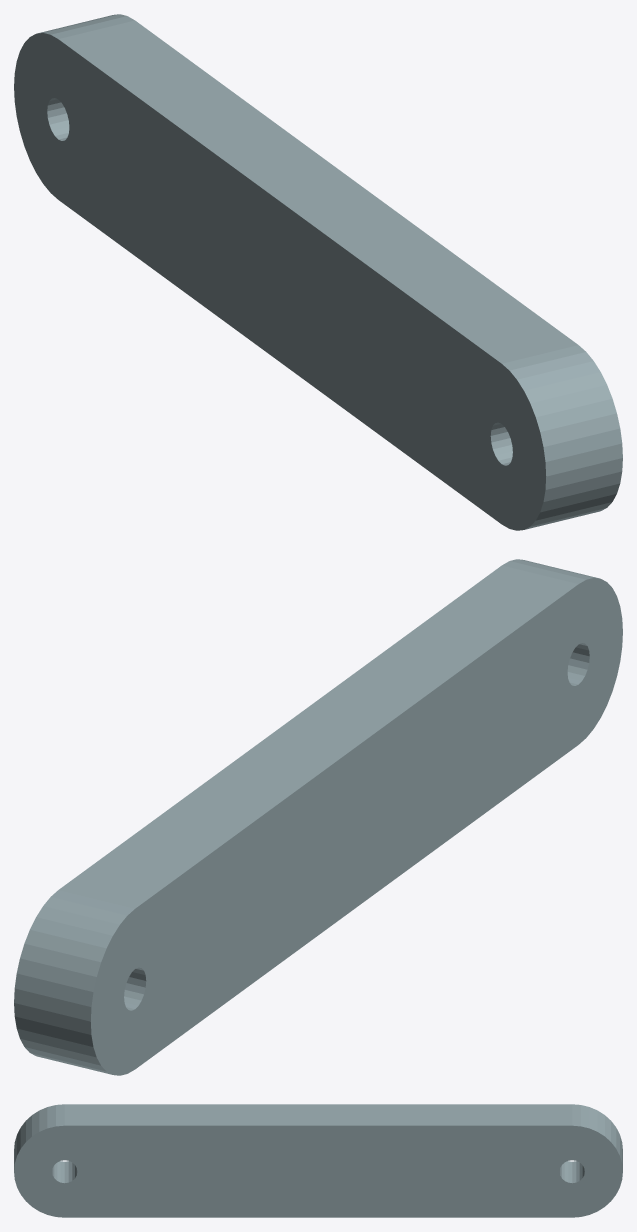
File: Bein - Ledd 2 v2.obj
3 renders of one model, top to bottom at view 1: azimuth 30°, elevation 25°; view 2: azimuth 150°, elevation 25°; view 3: azimuth 270°, elevation 25°, orthographic. The views are drawn at different scales.
Visible parts, largest first — view 1: Bein___Ledd_2_v2; view 2: Bein___Ledd_2_v2; view 3: Bein___Ledd_2_v2.
Boxes of the visible parts, bbox=[...] form: Bein___Ledd_2_v2: bbox=[14, 14, 622, 530]; Bein___Ledd_2_v2: bbox=[14, 559, 622, 1075]; Bein___Ledd_2_v2: bbox=[14, 1104, 622, 1217].
Size of the model in its own units: 20 by 40 by 240.
